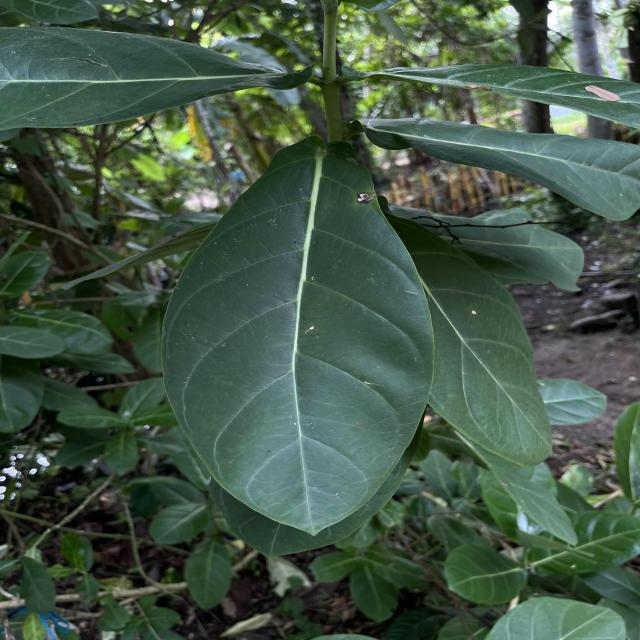Calotropis gigantea: (156, 132, 435, 539), (388, 222, 563, 468)
